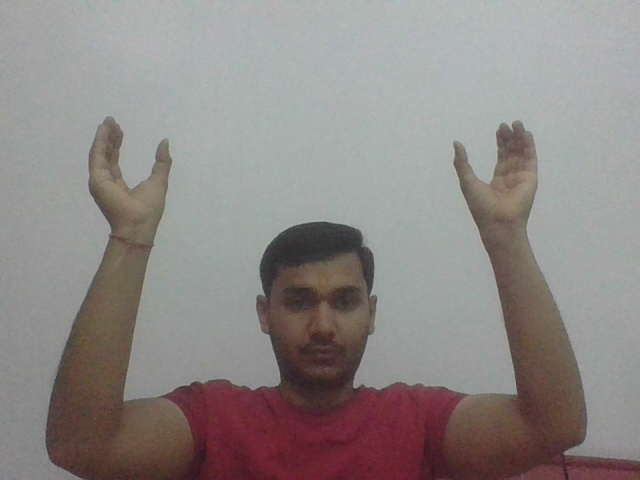U: (447, 114, 548, 237), (82, 113, 176, 235)
